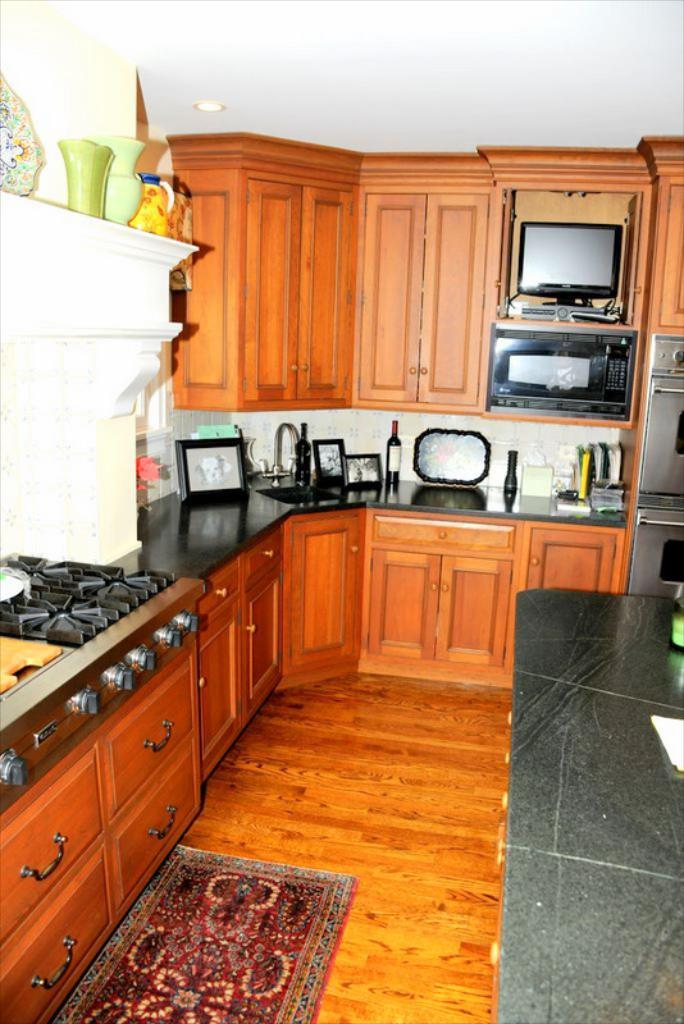cabinet_door: (365, 198, 418, 400), (432, 198, 482, 401), (303, 198, 355, 392), (250, 192, 300, 390), (298, 524, 358, 638), (447, 562, 508, 660), (380, 554, 437, 656), (388, 518, 514, 564), (18, 908, 104, 974), (532, 538, 607, 600), (6, 812, 92, 863), (127, 791, 188, 842), (244, 600, 278, 688), (123, 712, 187, 752), (204, 643, 230, 737), (670, 190, 684, 308), (210, 576, 236, 614), (246, 552, 284, 573)
handle: (32, 936, 78, 984), (24, 838, 68, 884), (146, 811, 180, 849), (146, 718, 176, 752), (194, 667, 208, 704), (244, 613, 258, 641), (262, 544, 276, 568), (214, 582, 228, 602)
